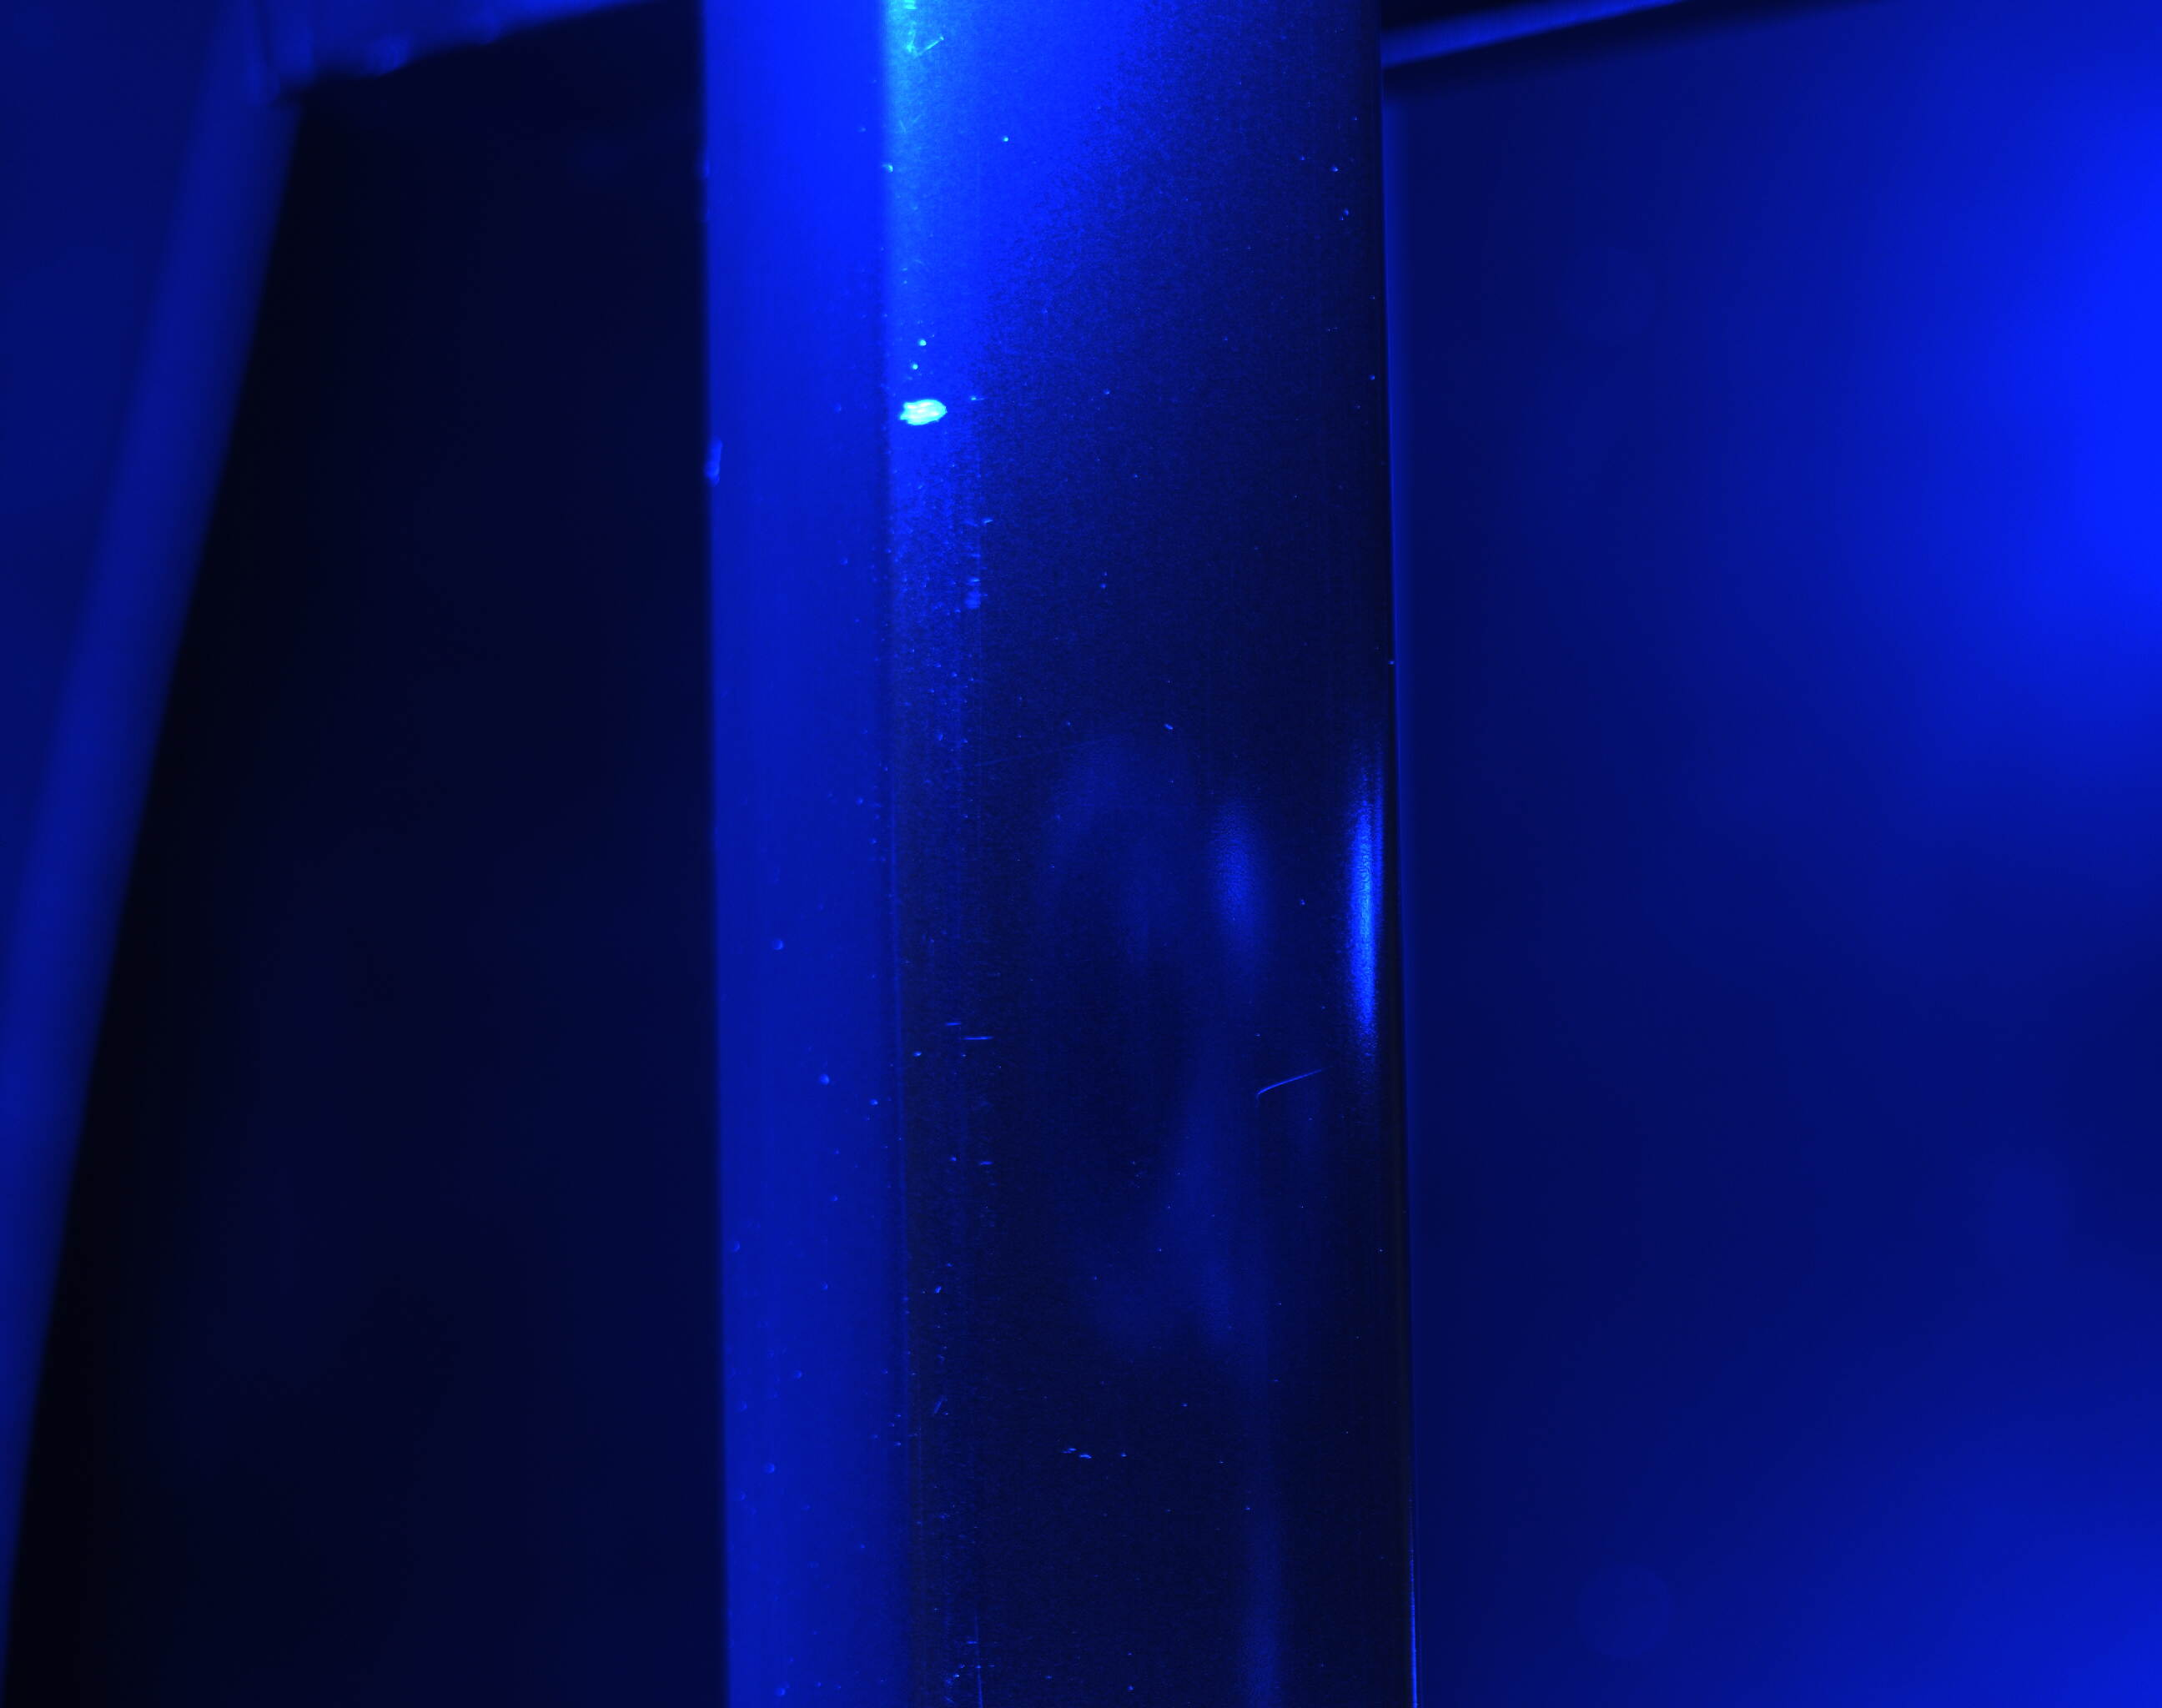NG: (1239, 1048, 1337, 1129), (886, 374, 977, 451)
